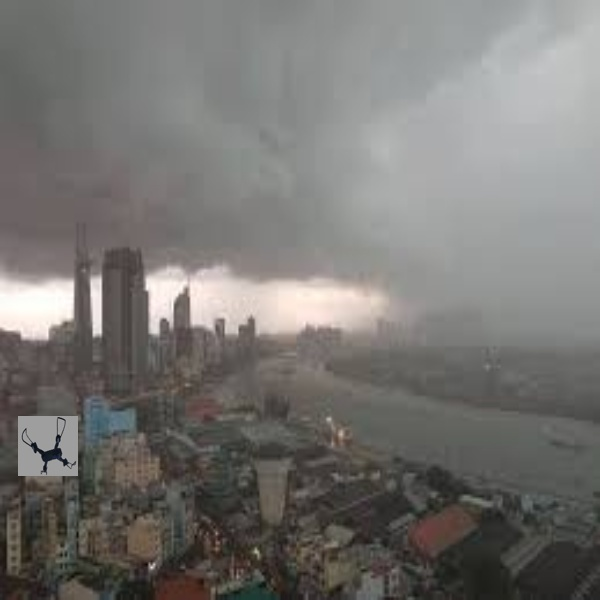drone: (16, 416, 80, 475)
